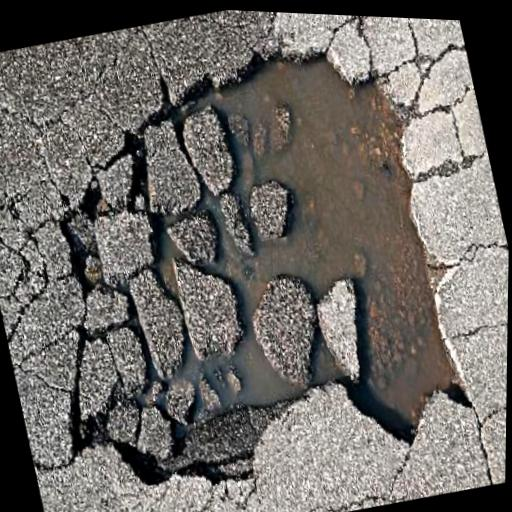pothole: (0, 2, 491, 512)
